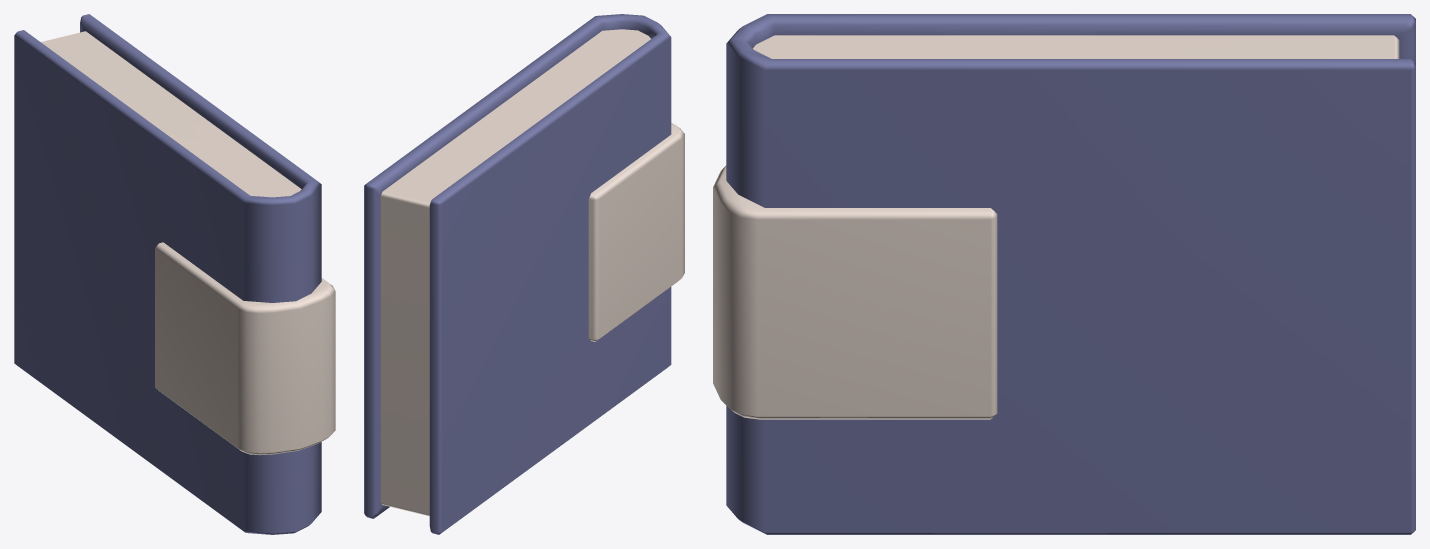
Rendered from Book_10.glb.
3 views of the same model, side by side, from view 1: azimuth 30°, elevation 25°; view 2: azimuth 150°, elevation 25°; view 3: azimuth 270°, elevation 25° (orthographic). The views are drawn at different scales.
Parts seen in each view (by area): view 1: Book_10; view 2: Book_10; view 3: Book_10.
Part boxes in pixels (box(x1,y1,x2,y2)): Book_10: box(14, 14, 335, 534); Book_10: box(364, 14, 684, 534); Book_10: box(713, 14, 1415, 534).
Bounding box in the file's own units: 0.0437 × 0.1472 × 0.1988.
Materials: 1 (1 with a texture image).
